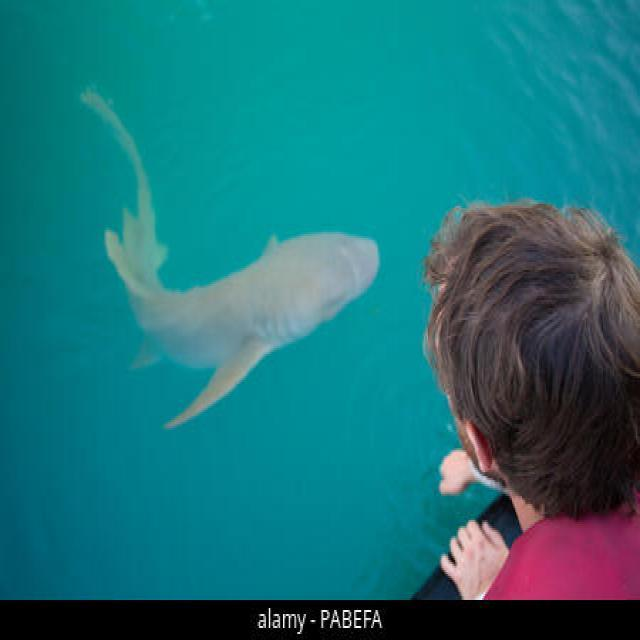Shark: (67, 54, 392, 450)
